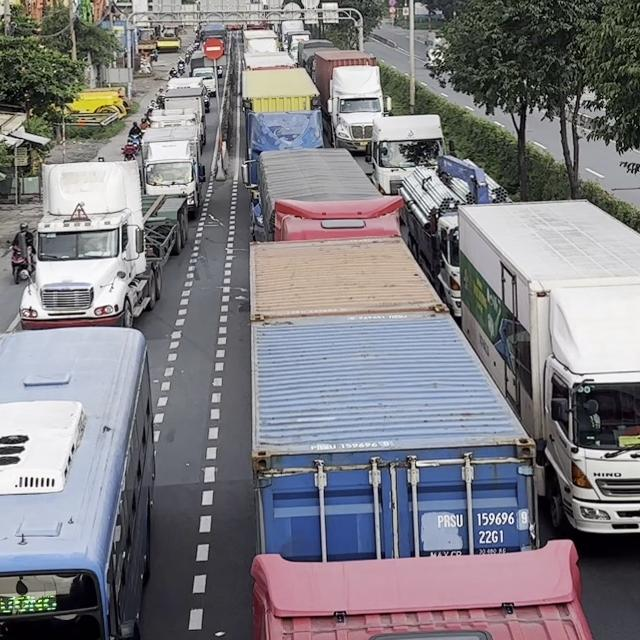motorcycle: (4, 239, 35, 285), (121, 140, 138, 161)
truck: (248, 235, 596, 640), (456, 197, 639, 538), (0, 325, 156, 639), (18, 157, 183, 330), (398, 154, 513, 319), (242, 147, 403, 242), (240, 67, 325, 191), (308, 49, 393, 154), (365, 113, 449, 195), (137, 126, 206, 218), (271, 194, 403, 242)
